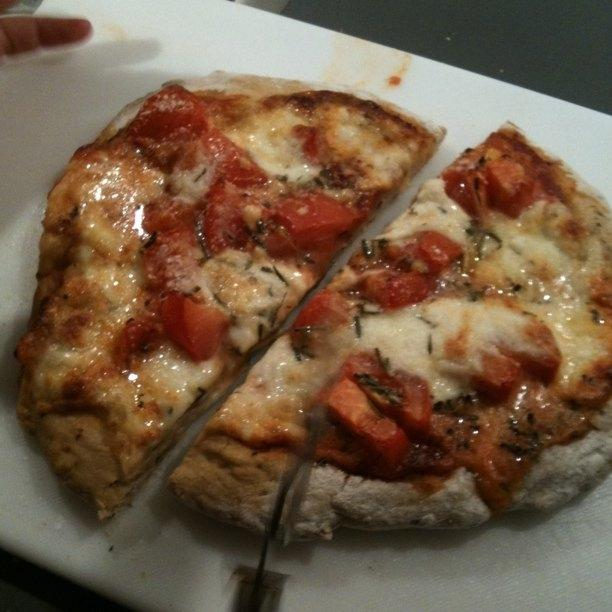tomato: (310, 347, 430, 478), (261, 191, 368, 264), (160, 294, 231, 364), (204, 176, 260, 256), (140, 226, 204, 290), (496, 318, 560, 381), (205, 130, 270, 188), (290, 286, 350, 345), (358, 271, 430, 309), (470, 352, 521, 405), (404, 232, 463, 274), (130, 108, 194, 143), (444, 170, 486, 219), (484, 158, 526, 203)
